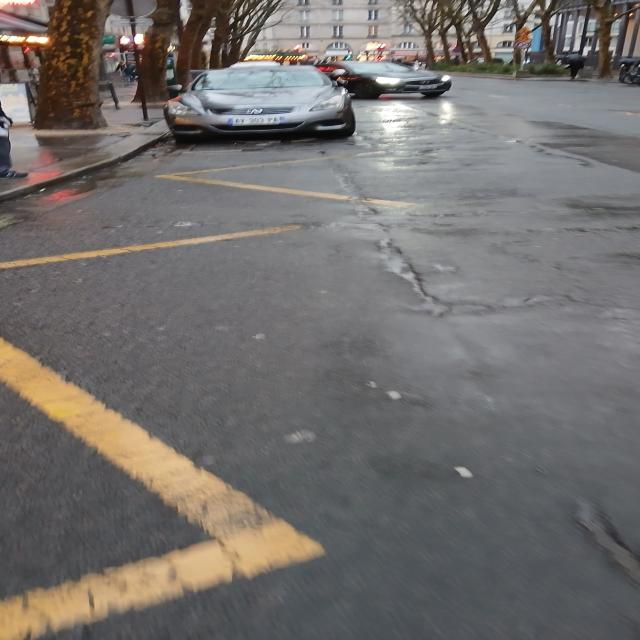Autre: (214, 112, 302, 130)
